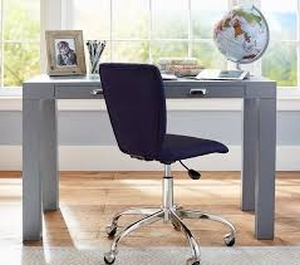chair: (98, 63, 236, 265)
